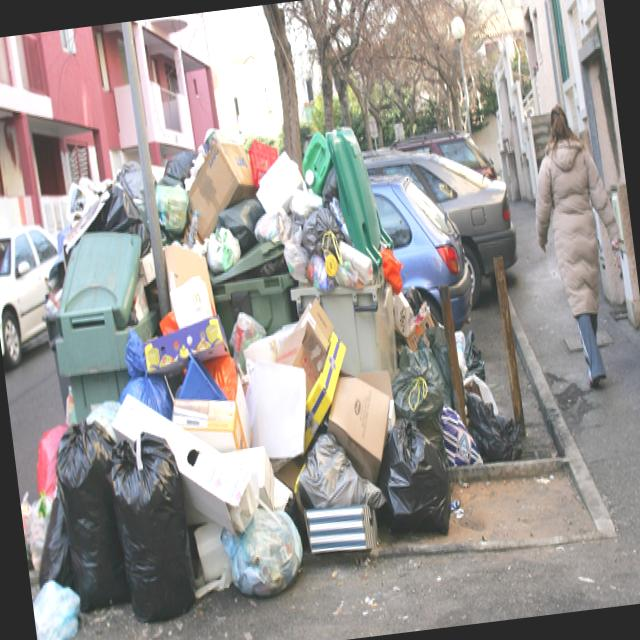garbage: (0, 80, 472, 640)
